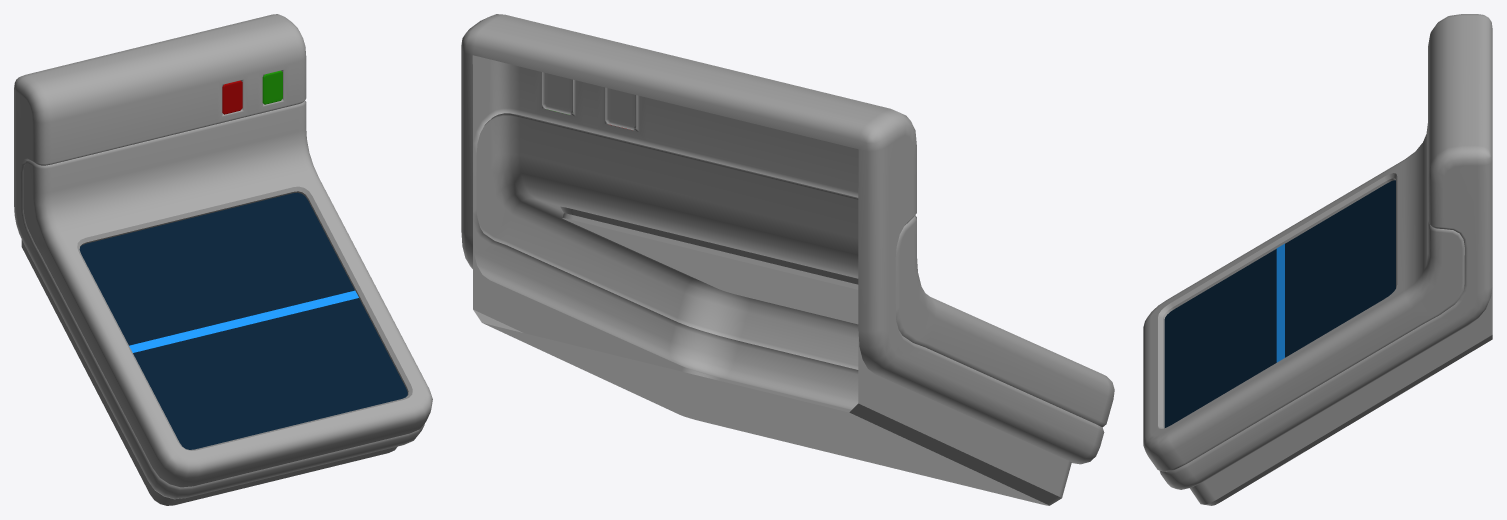
The model's file is HandScanGeo.fbx.
3 renders of one model, left to right at view 1: azimuth 30°, elevation 25°; view 2: azimuth 150°, elevation 25°; view 3: azimuth 270°, elevation 25°, orthographic. The views are drawn at different scales.
Parts seen in each view (by area): view 1: HandScanGeo, DecalDisplay, DecalLine, RedDecalLight, GreenDecalLight; view 2: HandScanGeo; view 3: HandScanGeo, DecalDisplay, DecalLine.
Part boxes in pixels (box(x1,y1,x2,y2)): HandScanGeo: box(14, 14, 432, 505); DecalDisplay: box(79, 192, 407, 449); DecalLine: box(129, 290, 358, 352); RedDecalLight: box(222, 80, 242, 114); GreenDecalLight: box(262, 70, 282, 104); HandScanGeo: box(461, 14, 1114, 505); HandScanGeo: box(1143, 14, 1492, 505); DecalDisplay: box(1164, 180, 1395, 427); DecalLine: box(1276, 243, 1284, 362).
Bounding box in the file's own units: 27.51 × 28.49 × 32.94.
